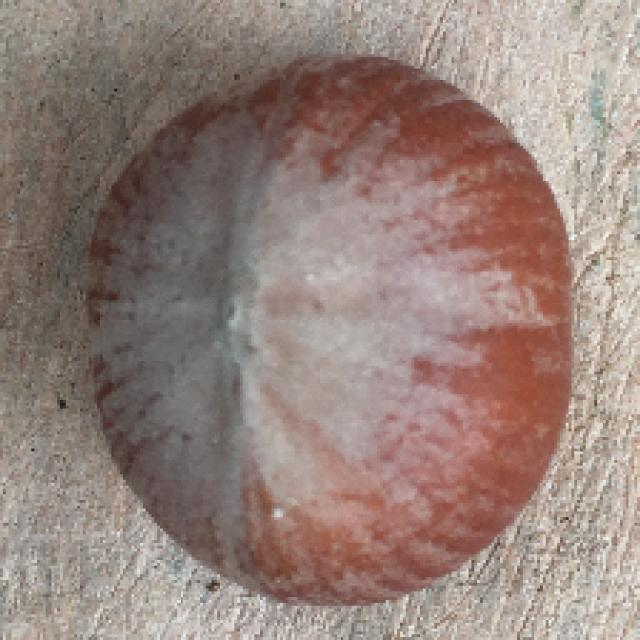qualityHazelnut: (92, 60, 579, 604)
